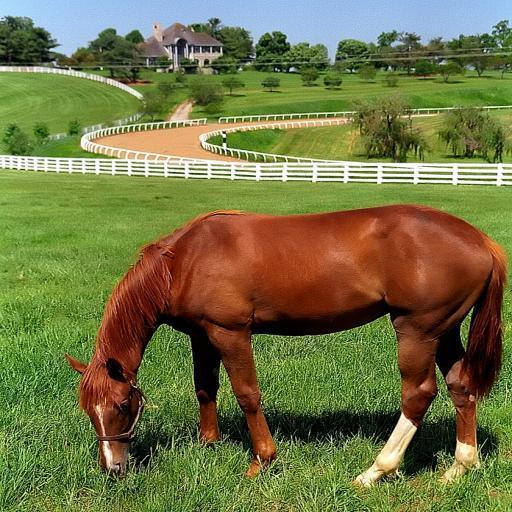horse: (58, 202, 506, 492)
